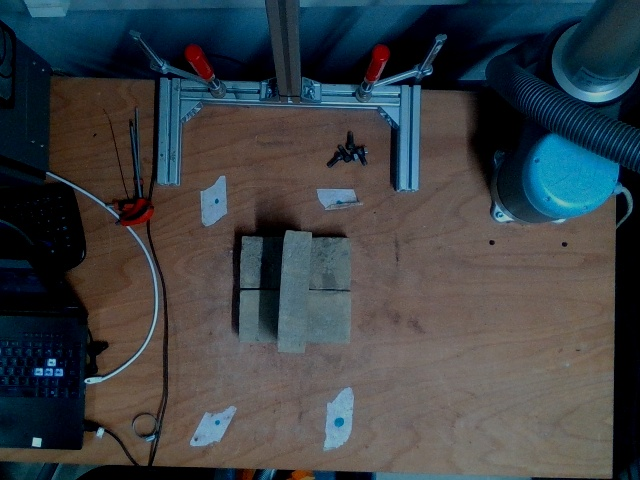brick-side: (276, 232, 309, 350)
